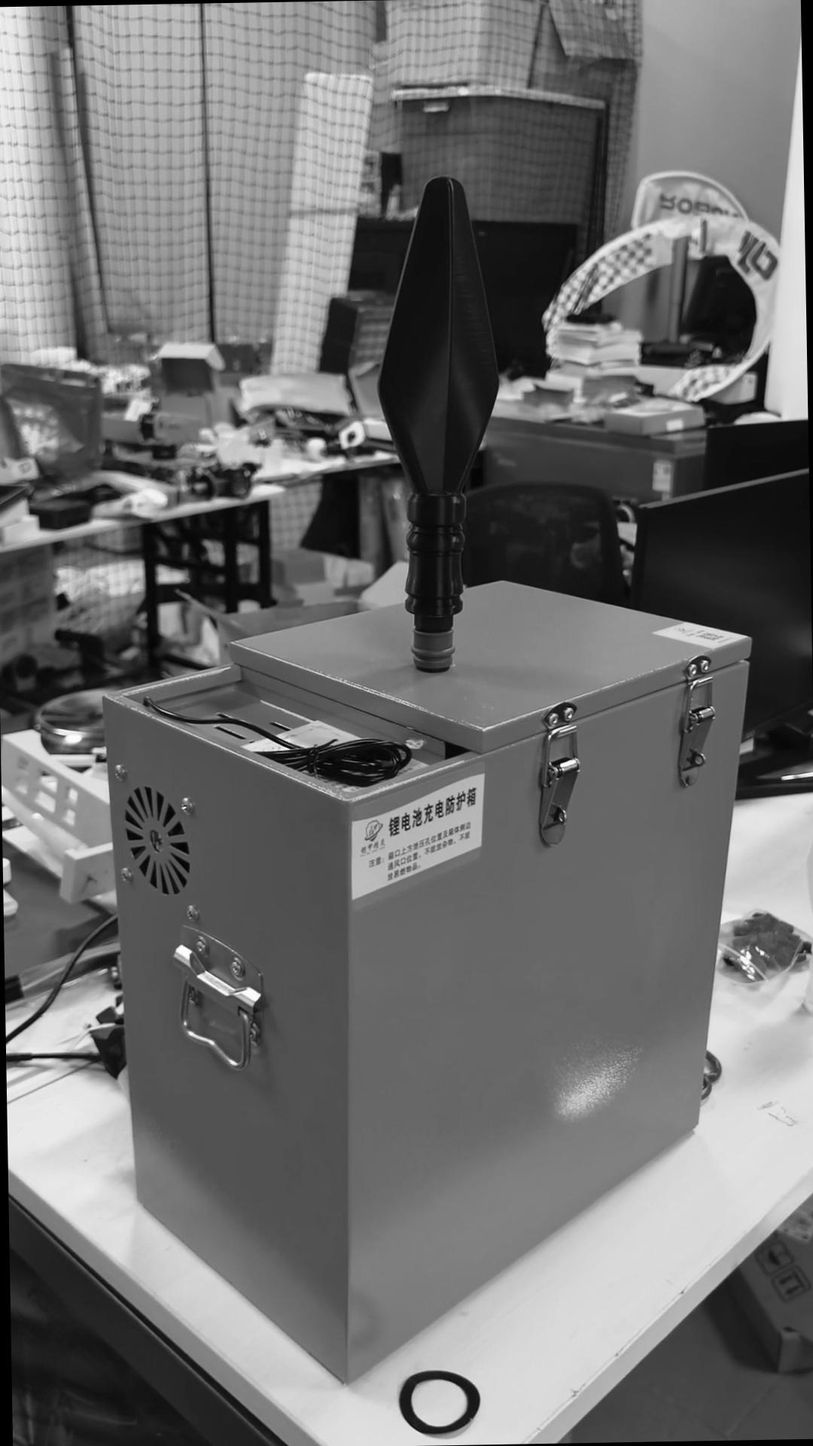base: (406, 623, 455, 675)
